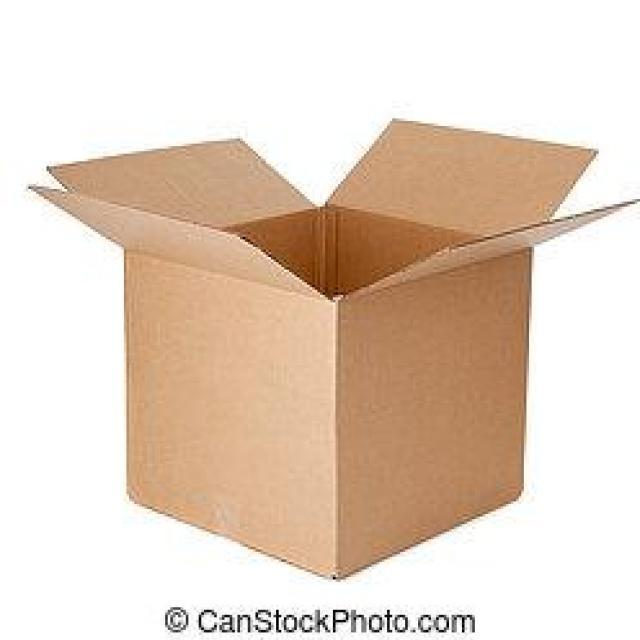box: (37, 109, 610, 583)
